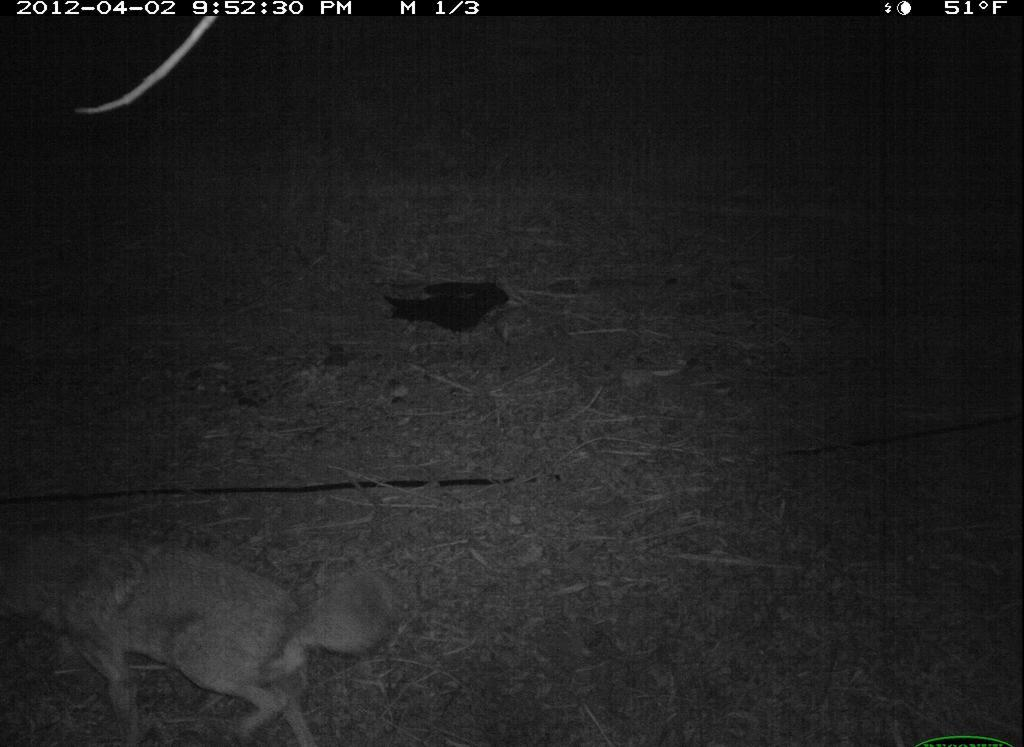coyote: (2, 523, 396, 743)
